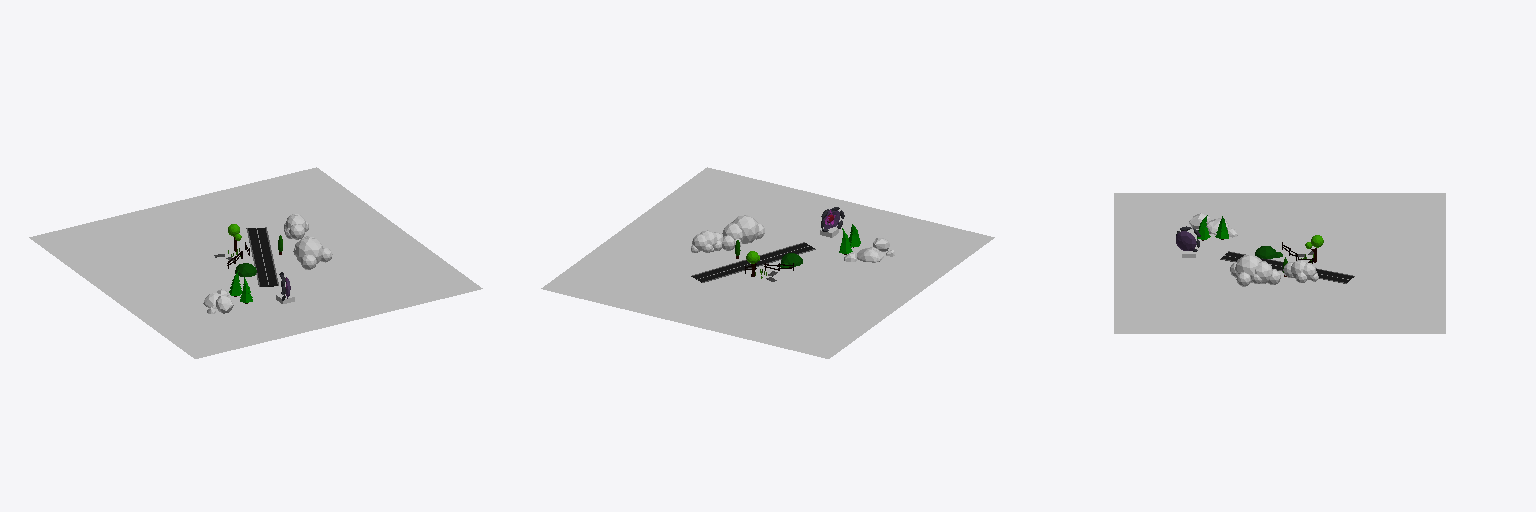
The model's file is scena.obj.
3 views of the same model, side by side, from view 1: azimuth 30°, elevation 25°; view 2: azimuth 150°, elevation 25°; view 3: azimuth 270°, elevation 25° (orthographic).
Visible parts, largest first — view 1: Plane, Cube.016; view 2: Plane, Cube.016; view 3: Plane, Cube.016.
Boxes of the visible parts, box(x1,y1,x2,y2) form: Plane: box(29, 167, 482, 358); Cube.016: box(246, 227, 278, 286); Plane: box(541, 167, 994, 358); Cube.016: box(691, 242, 815, 282); Plane: box(1114, 193, 1445, 333); Cube.016: box(1220, 251, 1354, 283).
Size of the model in its own units: 47.02 by 6.32 by 47.02.